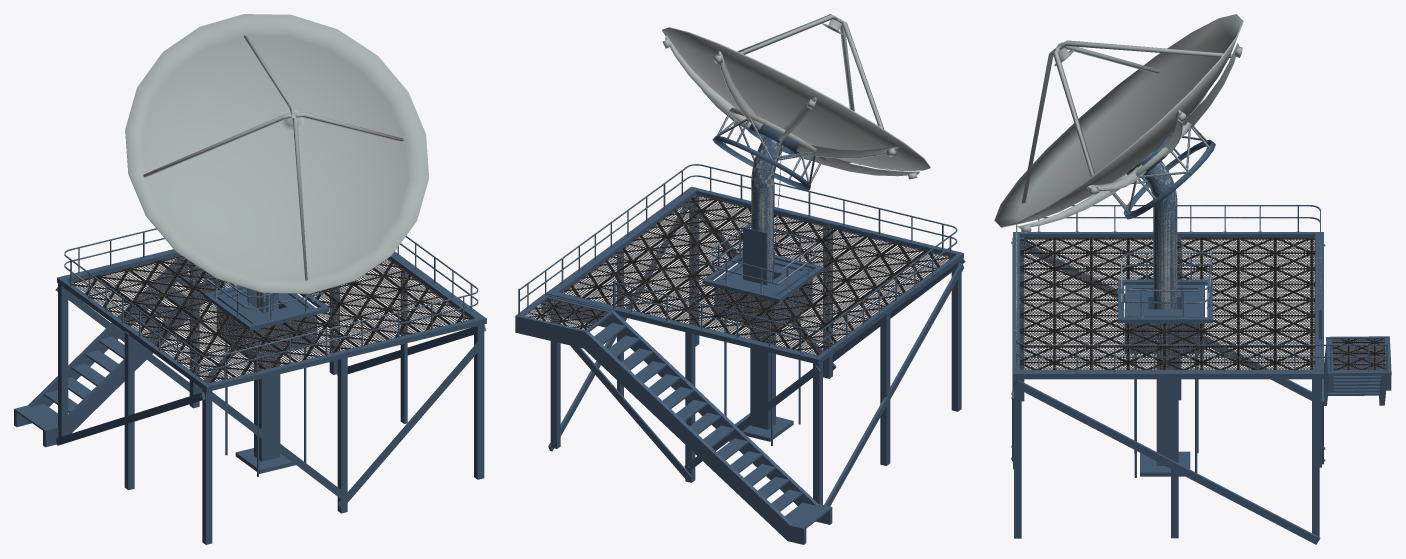
File: Sat Tower.fbx
The picture shows the model from 3 angles, left to right: view 1: azimuth 30°, elevation 25°; view 2: azimuth 150°, elevation 25°; view 3: azimuth 270°, elevation 25°; orthographic projection. The views are drawn at different scales.
Parts seen in each view (by area): view 1: Sat__Tower_Working; view 2: Sat__Tower_Working; view 3: Sat__Tower_Working.
Boxes of the visible parts, x1=… form: Sat__Tower_Working: x1=14, y1=14, x2=486, y2=544; Sat__Tower_Working: x1=515, y1=14, x2=965, y2=544; Sat__Tower_Working: x1=994, y1=14, x2=1391, y2=544.
Size of the model in its own units: 503 by 694 by 566.
